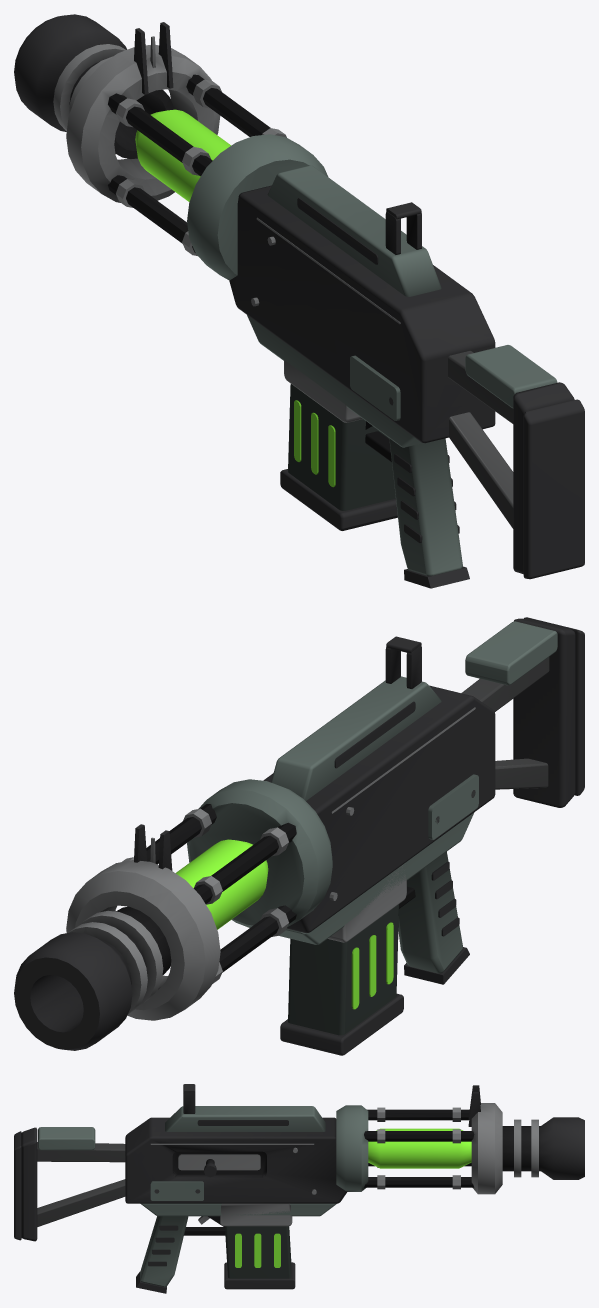
Rendered from siphon.glb.
3 renders of one model, top to bottom at view 1: azimuth 30°, elevation 25°; view 2: azimuth 150°, elevation 25°; view 3: azimuth 270°, elevation 25°, orthographic. The views are drawn at different scales.
Visible parts, largest first — view 1: Receiver, Emitter, Stock, Magazine, Core; view 2: Receiver, Emitter, Stock, Magazine, Core; view 3: Receiver, Emitter, Stock, Magazine, Core, Bolt.
Part boxes in pixels (box(x1,y1,x2,y2)): Receiver: box(134, 22, 495, 588); Emitter: box(14, 14, 328, 280); Stock: box(448, 345, 584, 579); Magazine: box(280, 384, 397, 530); Core: box(135, 109, 230, 201); Receiver: box(134, 636, 495, 984); Emitter: box(14, 779, 332, 1050); Stock: box(461, 617, 584, 807); Magazine: box(280, 904, 403, 1055); Core: box(175, 839, 268, 929); Receiver: box(125, 1084, 480, 1293); Emitter: box(336, 1103, 584, 1194); Stock: box(14, 1127, 125, 1241); Magazine: box(224, 1226, 295, 1289); Core: box(368, 1128, 471, 1168); Bolt: box(178, 1154, 260, 1177).
Size of the model in its own units: 0.146 by 0.352 by 0.907.
